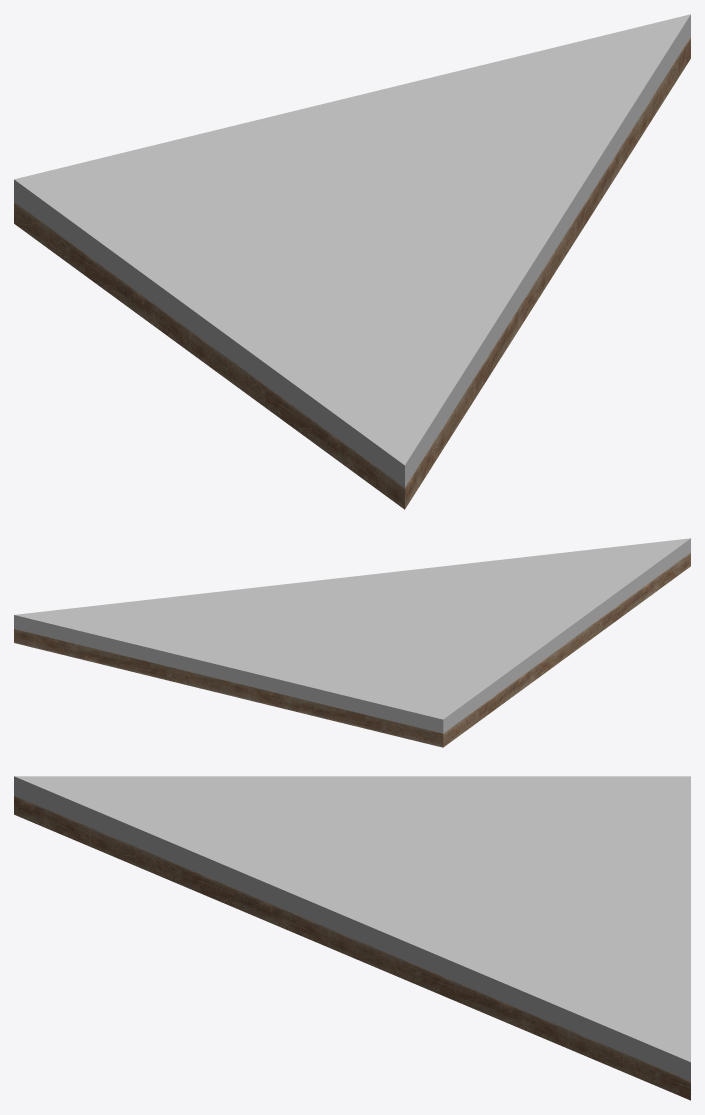
The picture shows the model from 3 angles, top to bottom: view 1: azimuth 30°, elevation 25°; view 2: azimuth 150°, elevation 25°; view 3: azimuth 270°, elevation 25°; orthographic projection. The views are drawn at different scales.
Visible parts, largest first — view 1: SM_Greathall_Floor_45_8x8_01_LOD0; view 2: SM_Greathall_Floor_45_8x8_01_LOD0; view 3: SM_Greathall_Floor_45_8x8_01_LOD0.
Boxes of the visible parts, bbox=[...] form: SM_Greathall_Floor_45_8x8_01_LOD0: bbox=[14, 14, 690, 509]; SM_Greathall_Floor_45_8x8_01_LOD0: bbox=[14, 538, 690, 747]; SM_Greathall_Floor_45_8x8_01_LOD0: bbox=[14, 776, 690, 1100].
Bounding box in the file's own units: 8 × 0.5 × 8.
